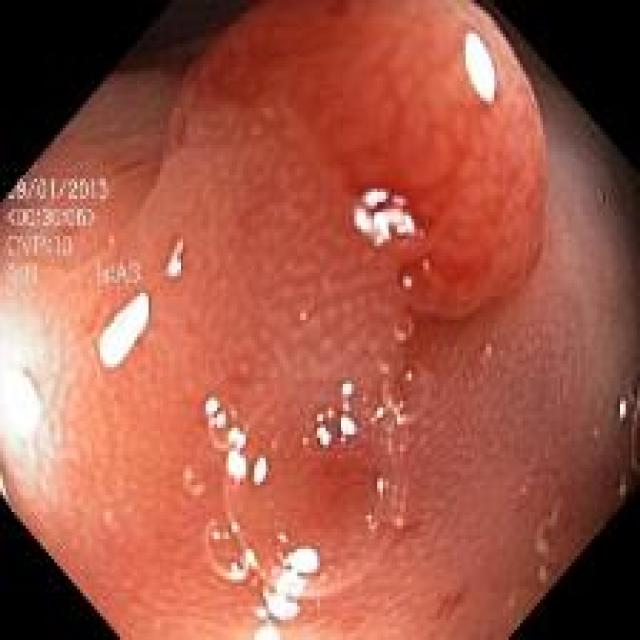Polyps: (145, 3, 545, 319), (224, 372, 409, 602)
